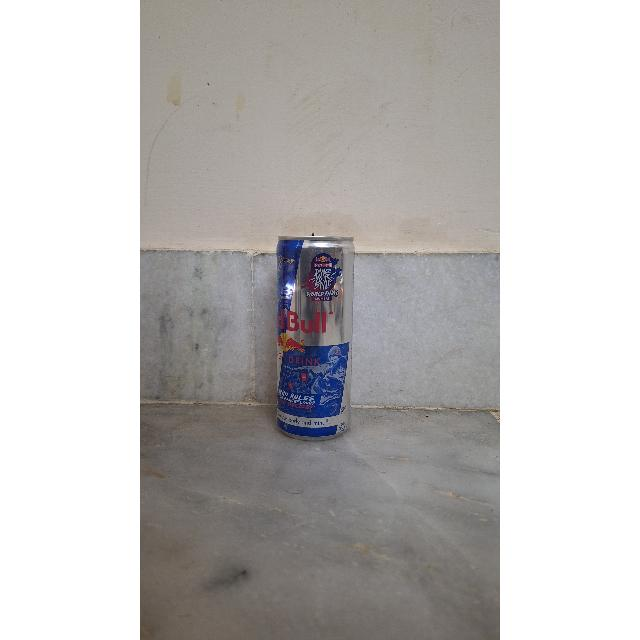Redbull DanceYourStyle: (263, 227, 355, 451)
